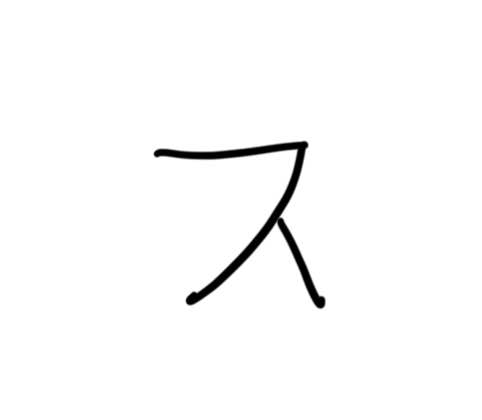su: (134, 134, 336, 314)
